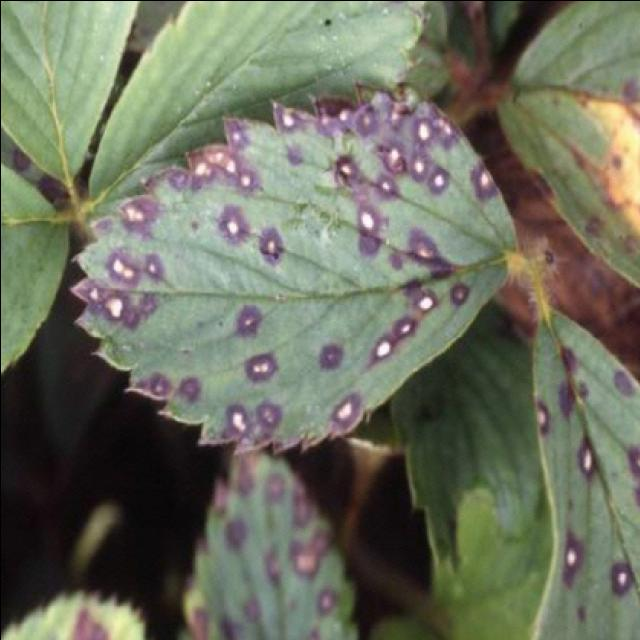Leaf Spot: (67, 80, 518, 457), (495, 2, 640, 287), (530, 304, 640, 640), (176, 446, 359, 640), (2, 589, 144, 640)
